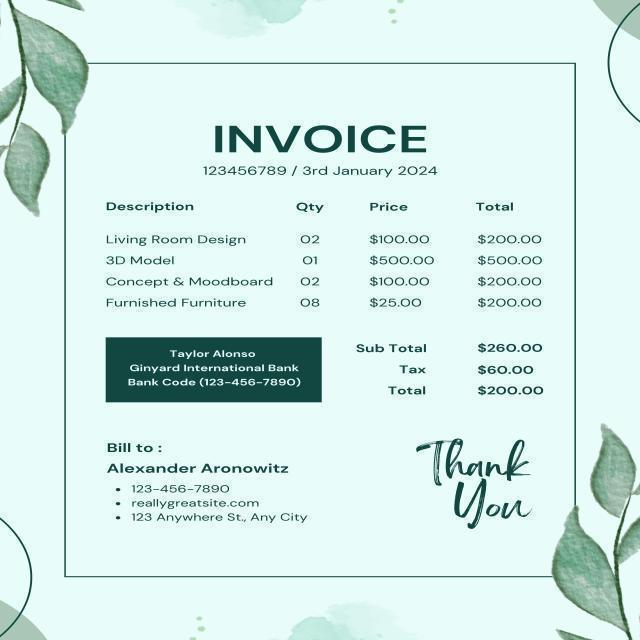paragraph: (101, 436, 315, 533), (193, 115, 445, 181), (407, 426, 541, 534), (347, 334, 554, 402), (112, 340, 315, 398)
table: (95, 190, 552, 317)
